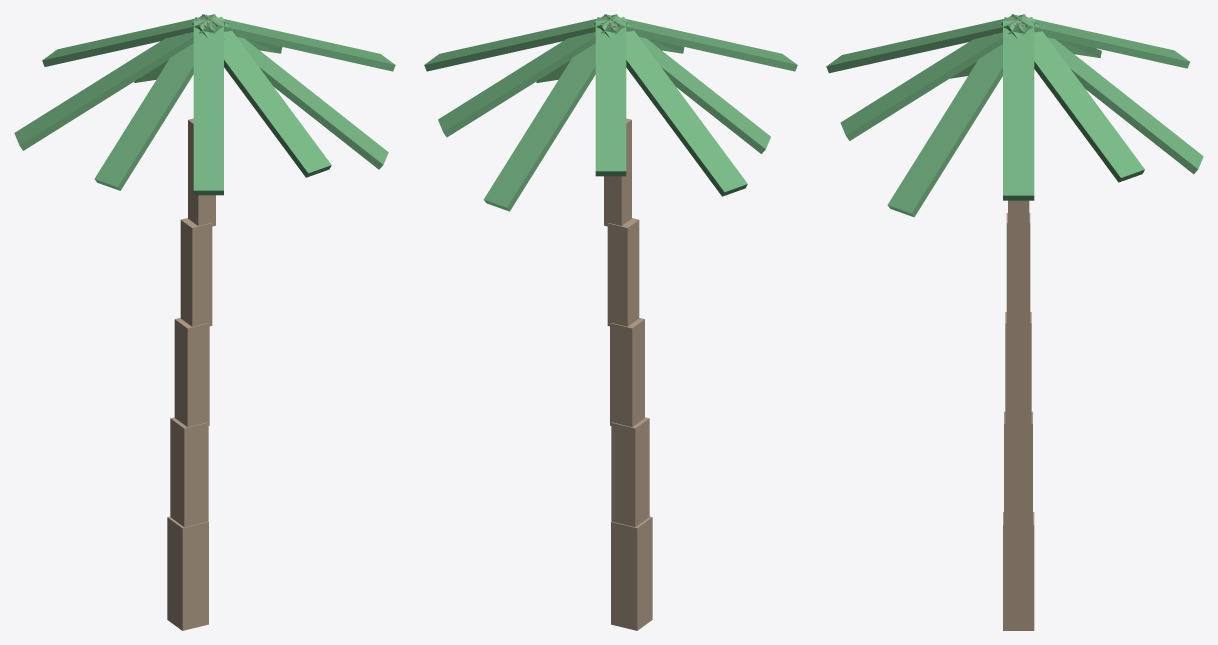
Rendered from coqueiro.glb.
3 renders of one model, left to right at view 1: azimuth 30°, elevation 25°; view 2: azimuth 150°, elevation 25°; view 3: azimuth 270°, elevation 25°, orthographic. The views are drawn at different scales.
Visible parts, largest first — view 1: Coqueiro; view 2: Coqueiro; view 3: Coqueiro.
Part boxes in pixels (x1,y1,x2,y2): Coqueiro: [14, 14, 395, 630]; Coqueiro: [424, 14, 797, 630]; Coqueiro: [826, 14, 1203, 630].
Bounding box in the file's own units: 5.45 × 9.08 × 5.05.
